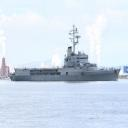Portanaves: (9, 24, 123, 82)
